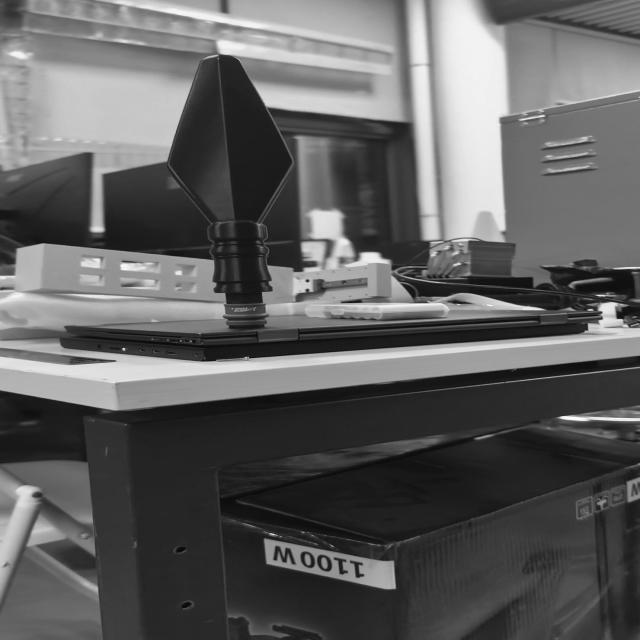base: (221, 304, 271, 328)
